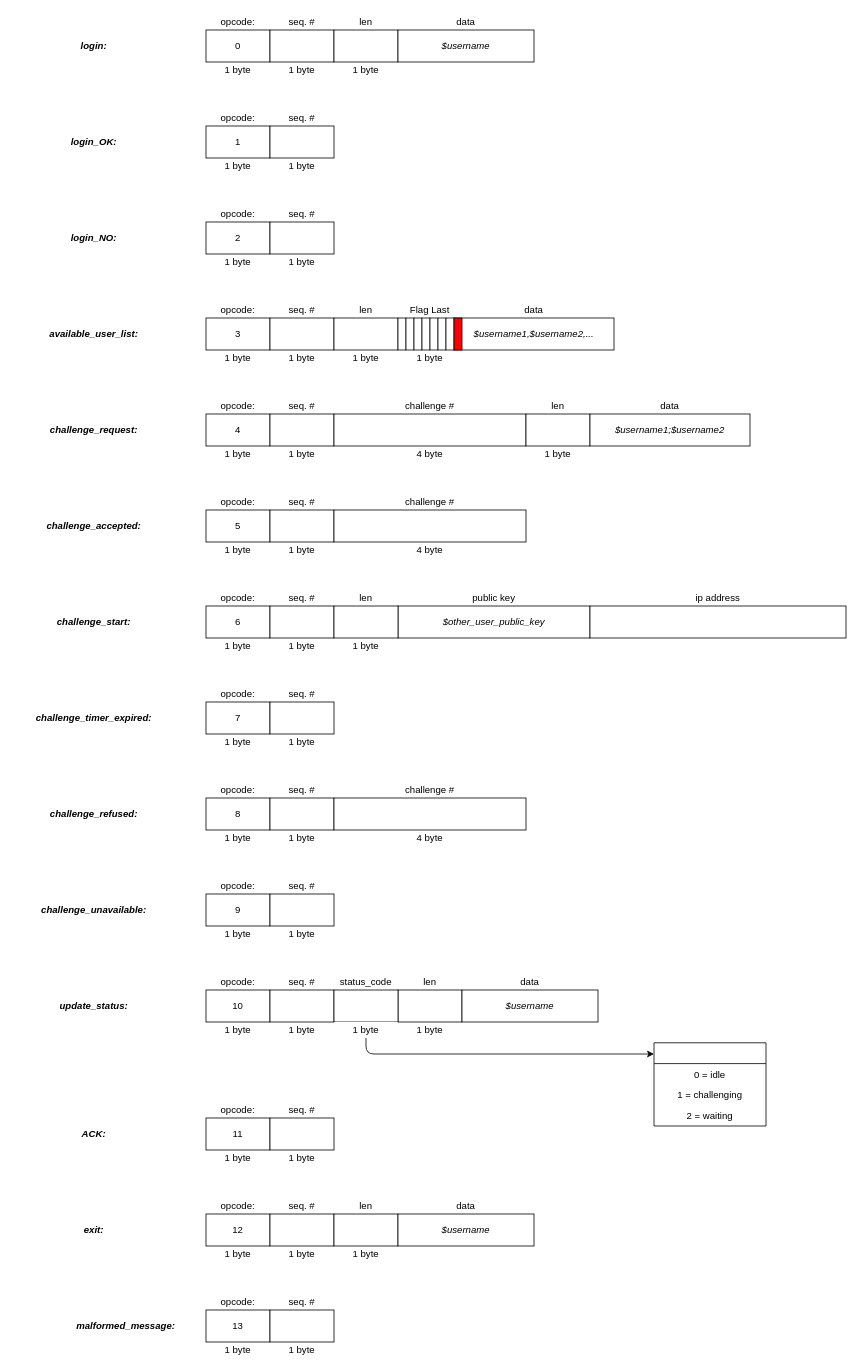
This 860x1371 diagram has some shape labels left out. Here are the shapes that lost their labels. From the top down, the box of each, then its label:
(589, 605, 846, 638): $other_user_ip_address_as_string
(653, 1042, 766, 1126): satus_code
